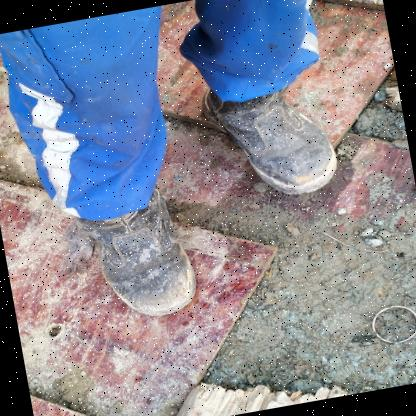bota: (199, 65, 349, 208), (76, 181, 202, 327)
